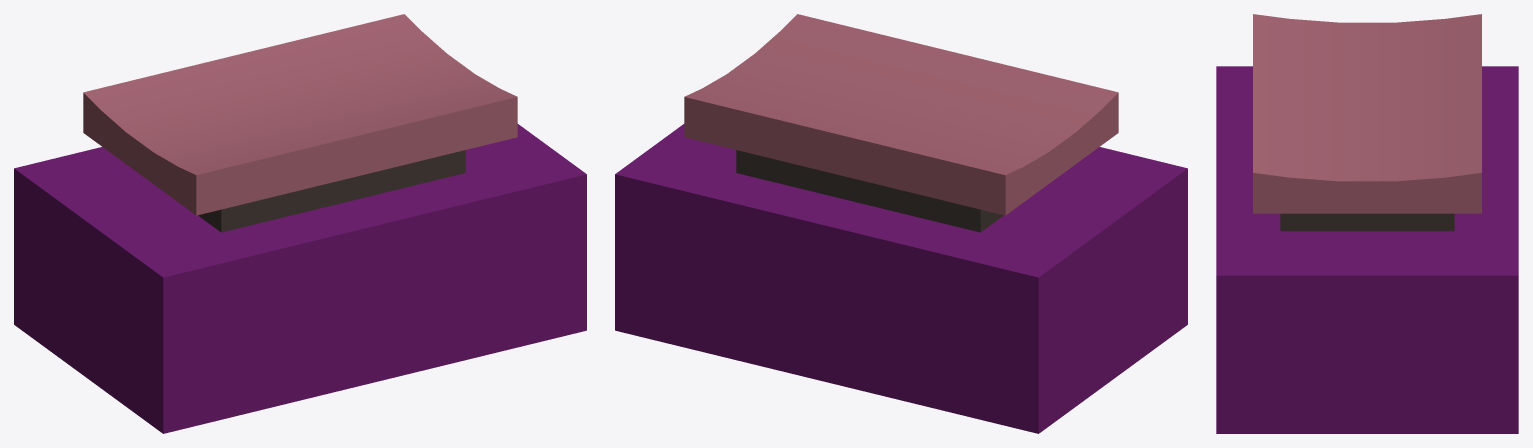
Rendered from battery-holder.fbx.
The picture shows the model from 3 angles, left to right: view 1: azimuth 30°, elevation 25°; view 2: azimuth 150°, elevation 25°; view 3: azimuth 270°, elevation 25°; orthographic projection.
Visible parts, largest first — view 1: battery-holder; view 2: battery-holder; view 3: battery-holder.
Part boxes in pixels (x1,y1,x2,y2): battery-holder: (14,14,586,433); battery-holder: (615,14,1187,433); battery-holder: (1216,14,1518,433).
Bounding box in the file's own units: 839 × 441 × 512.
